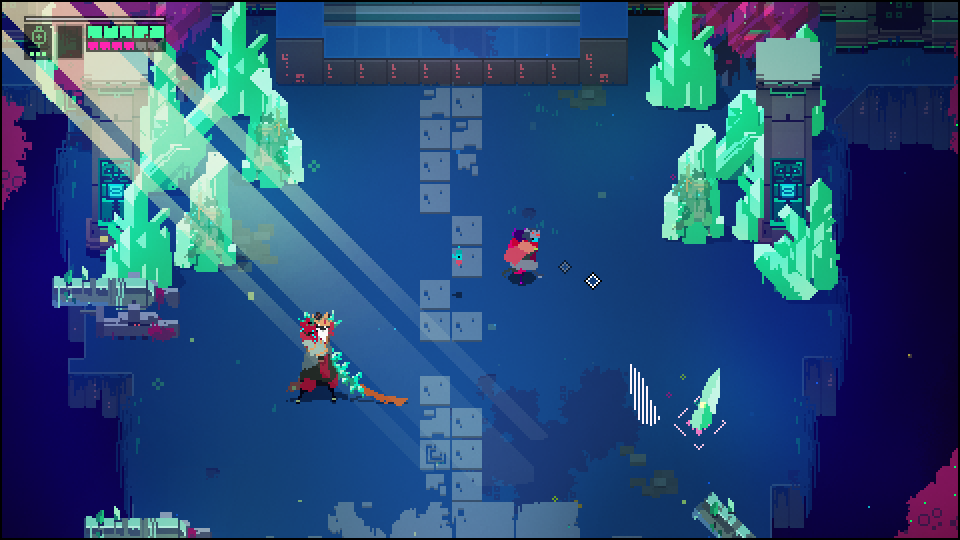hanged_crys: (624, 359, 664, 425), (687, 366, 723, 432)
hanged_man: (282, 309, 375, 408)
player: (499, 223, 542, 282)
